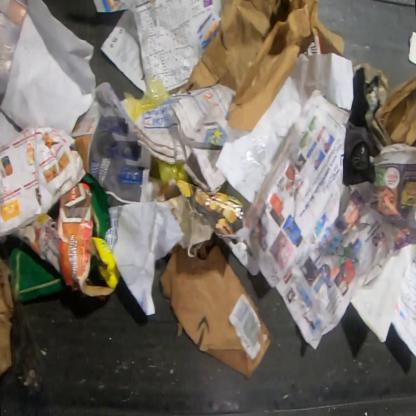cardboard: (187, 0, 345, 130), (158, 243, 273, 381), (373, 73, 415, 149), (0, 258, 14, 375)
soft_plastic: (124, 77, 170, 121), (156, 159, 188, 188)
